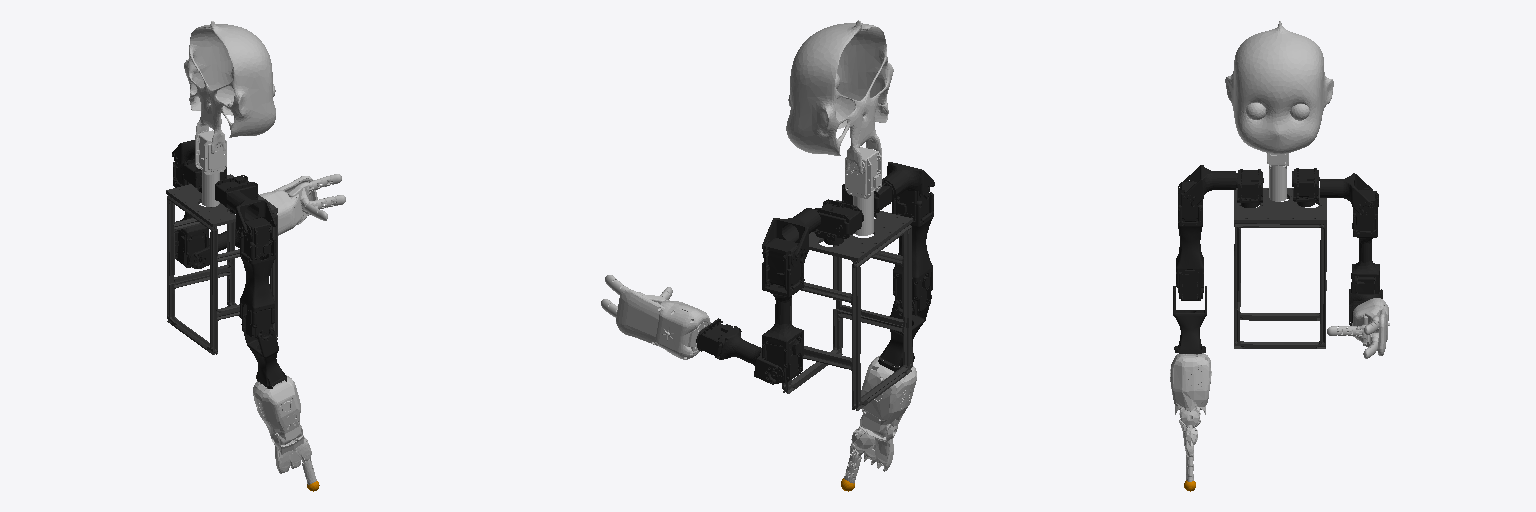
--- Facts derived from the render (not from the file) ---
3 views of the same robot in one strip: view 1: azimuth 30°, elevation 25°; view 2: azimuth 150°, elevation 25°; view 3: azimuth 270°, elevation 25° (orthographic).
Robot: nico_upper_rh6d — 27 links, 26 joints (7 revolute, 19 fixed); root link world; default pose: all joints at 0 but 1 set to mid-range because 0 is outside their limits (r_elbow_y_rjoint = 2.01).
Visible links, largest first — view 1: head, torso, right_upper_arm, right_wrist, neck, left_upper_arm:11, right_lower_arm, left_wrist:11, right_collarbone, r_palm, right_shoulder; view 2: head, torso, left_upper_arm:11, left_wrist:11, right_upper_arm, right_wrist, left_lower_arm:11, neck, left_shoulder, left_collarbone:11, r_palm, right_collarbone (+2 smaller); view 3: head, torso, right_upper_arm, right_wrist, left_upper_arm:11, right_lower_arm, right_collarbone, left_collarbone:11, left_wrist:11, right_shoulder, left_shoulder, neck (+1 smaller).
Link boxes in pixels (x1,y1,x2,y2): head: (184, 21, 275, 153); torso: (166, 174, 277, 354); right_upper_arm: (240, 217, 275, 339); right_wrist: (253, 375, 301, 444); neck: (195, 130, 226, 206); left_upper_arm:11: (173, 157, 208, 268); right_lower_arm: (241, 324, 286, 388); left_wrist:11: (260, 176, 317, 235); right_collarbone: (226, 191, 276, 238); r_palm: (270, 426, 311, 473); right_shoulder: (215, 175, 257, 213); head: (786, 20, 893, 173); torso: (782, 200, 912, 410); left_upper_arm:11: (762, 238, 804, 383); left_wrist:11: (616, 290, 710, 359); right_upper_arm: (892, 190, 933, 315); right_wrist: (861, 355, 916, 437); left_lower_arm:11: (696, 318, 777, 384); neck: (845, 147, 881, 235); left_shoulder: (813, 199, 863, 244); left_collarbone:11: (762, 208, 820, 263); r_palm: (850, 417, 897, 471); right_collarbone: (882, 162, 934, 199); head: (1225, 21, 1333, 153); torso: (1234, 188, 1326, 348); right_upper_arm: (1176, 181, 1203, 300); right_wrist: (1170, 353, 1211, 422); left_upper_arm:11: (1351, 188, 1380, 293); right_lower_arm: (1173, 286, 1206, 353); right_collarbone: (1183, 165, 1235, 206); left_collarbone:11: (1320, 173, 1372, 214); left_wrist:11: (1352, 298, 1389, 355); right_shoulder: (1236, 169, 1263, 207); left_shoulder: (1292, 168, 1319, 206); neck: (1267, 153, 1288, 201).
Bounding box of the posed robot: 0.3653 × 0.3521 × 0.7848 m (x, y, z).
Meshes: 17 distinct files referenced, 25 mesh visuals loaded (17 binary STL).

The robot description file, URDF, robot "nico_upper_rh6d":
<?xml version="1.0" ?>

<robot name="nico_upper_rh6d">
  <joint name="endeffector_joint" type="fixed">
    <origin rpy="-0.00000 0.00000 -0.00000" xyz="0.00000 -0.00000 -0.05000"/>
    <parent link="gripper"/>
    <child link="endeffector"/>
  </joint>
  <joint name="gripper_rjoint" type="revolute">
    <limit lower="-2.57000" upper="0" effort="30" velocity="1"/>
    <origin rpy="-0.00000 0.00000 -0.00000" xyz="-0.00000 -0.02000 -0.06000"/>
    <parent link="r_palm"/>
    <child link="gripper"/>
    <axis xyz="0.00000 1.00000 0.00000"/>
  </joint>
  <joint name="head_y_rjoint" type="fixed">
    <origin rpy="0.00000 0.00000 0.00000" xyz="0.00000 0.00000 0.10500"/>
    <parent link="neck"/>
    <child link="head"/>
  </joint>
  <joint name="head_z_rjoint" type="fixed">
    <origin rpy="0.00000 0.00000 0.00000" xyz="-0.02000 0.00000 0.23000"/>
    <parent link="torso"/>
    <child link="neck"/>
  </joint>
  <joint name="l_arm_x" type="fixed">
    <origin rpy="0.00068 -0.05128 -0.00004" xyz="0.02450 0.07366 -0.02285"/>
    <parent link="left_collarbone:11"/>
    <child link="left_upper_arm:11"/>
  </joint>
  <joint name="l_elbow_y" type="fixed">
    <origin rpy="3.14159 -1.44562 -3.14159" xyz="-0.03458 0.02307 -0.16986"/>
    <parent link="left_upper_arm:11"/>
    <child link="left_lower_arm:11"/>
  </joint>
  <joint name="l_indexfinger_1st_x" type="fixed">
    <origin rpy="-0.09524 -0.00000 -0.00000" xyz="-0.00951 -0.00000 -0.01600"/>
    <parent link="finger_segment:25"/>
    <child link="finger_segment:15"/>
  </joint>
  <joint name="l_indexfinger_2nd_x" type="fixed">
    <origin rpy="-0.10961 -0.00000 -0.00000" xyz="0.00000 -0.00000 -0.01600"/>
    <parent link="finger_segment:15"/>
    <child link="fingertip:15"/>
  </joint>
  <joint name="l_indexfingers_x" type="fixed">
    <origin rpy="2.49295 0.06290 -0.00000" xyz="-0.00144 0.00623 0.04000"/>
    <parent link="left_palm:11"/>
    <child link="finger_segment:25"/>
  </joint>
  <joint name="l_ringfinger_1st_x" type="fixed">
    <origin rpy="-0.09525 0.00000 -0.00000" xyz="-0.00951 -0.00000 -0.01600"/>
    <parent link="finger_segment:26"/>
    <child link="finger_segment:16"/>
  </joint>
  <joint name="l_ringfinger_2nd_x" type="fixed">
    <origin rpy="-0.10961 -0.00000 0.00000" xyz="0.00000 -0.00000 -0.01600"/>
    <parent link="finger_segment:16"/>
    <child link="fingertip:16"/>
  </joint>
  <joint name="l_ringfingers_x" type="fixed">
    <origin rpy="2.49951 -0.06290 -0.00000" xyz="-0.03618 0.00623 0.04057"/>
    <parent link="left_palm:11"/>
    <child link="finger_segment:26"/>
  </joint>
  <joint name="l_shoulder_y" type="fixed">
    <origin rpy="0.00000 -0.00445 -0.01954" xyz="0.02245 0.02257 0.03700"/>
    <parent link="left_shoulder"/>
    <child link="left_collarbone:11"/>
  </joint>
  <joint name="l_shoulder_z_rjoint" type="fixed">
    <origin rpy="0.00000 0.00000 0.00000" xyz="0.00000 0.04500 0.23000"/>
    <parent link="torso"/>
    <child link="left_shoulder"/>
  </joint>
  <joint name="l_thumb_1st_x" type="fixed">
    <origin rpy="-0.09525 0.00000 0.00000" xyz="-0.00951 0.00000 -0.01600"/>
    <parent link="finger_segment:24"/>
    <child link="finger_segment:14"/>
  </joint>
  <joint name="l_thumb_2nd_x" type="fixed">
    <origin rpy="-0.10961 -0.00000 0.00000" xyz="0.00000 -0.00000 -0.01600"/>
    <parent link="finger_segment:14"/>
    <child link="fingertip:14"/>
  </joint>
  <joint name="l_thumb_x" type="fixed">
    <origin rpy="-1.13053 -0.00000 3.14159" xyz="-0.02800 0.01990 0.00842"/>
    <parent link="left_palm:11"/>
    <child link="finger_segment:24"/>
  </joint>
  <joint name="l_wrist_x" type="fixed">
    <origin rpy="0.46094 0.00000 -0.00000" xyz="0.02342 0.00605 0.07084"/>
    <parent link="left_wrist:11"/>
    <child link="left_palm:11"/>
  </joint>
  <joint name="l_wrist_z" type="fixed">
    <origin rpy="-3.14159 0.00000 0.02870" xyz="0.00000 -0.01020 -0.12555"/>
    <parent link="left_lower_arm:11"/>
    <child link="left_wrist:11"/>
  </joint>
  <joint name="r_elbow_y_rjoint" type="revolute">
    <limit lower="0.87260" upper="3.14160" effort="30" velocity="1"/>
    <origin rpy="3.14159 0.00159 3.14159" xyz="0.00000 0.00000 -0.17000"/>
    <parent link="right_upper_arm"/>
    <child link="right_lower_arm"/>
    <axis xyz="0.00000 1.00000 0.00000"/>
  </joint>
  <joint name="r_shoulder_y_rjoint" type="revolute">
    <limit lower="-0.52360" upper="3.14160" effort="30" velocity="1"/>
    <origin rpy="0.00000 0.00000 0.00000" xyz="-0.02100 -0.02300 0.03300"/>
    <parent link="right_shoulder"/>
    <child link="right_collarbone"/>
    <axis xyz="0.00000 -1.00000 0.00000"/>
  </joint>
  <joint name="r_shoulder_z_rjoint" type="revolute">
    <limit lower="-0.43630" upper="1.39630" effort="30" velocity="1"/>
    <origin rpy="0.00000 0.00000 0.00000" xyz="0.00500 -0.04500 0.23000"/>
    <parent link="torso"/>
    <child link="right_shoulder"/>
    <axis xyz="0.00000 0.00000 1.00000"/>
  </joint>
  <joint name="r_upperarm_x_rjoint" type="revolute">
    <limit lower="0" upper="1.22170" effort="30" velocity="1"/>
    <origin rpy="0.00000 0.00000 0.00000" xyz="0.00000 -0.07300 -0.02300"/>
    <parent link="right_collarbone"/>
    <child link="right_upper_arm"/>
    <axis xyz="-1.00000 0.00000 0.00000"/>
  </joint>
  <joint name="r_wrist_x_rjoint" type="revolute">
    <limit lower="-0.78000" upper="0.78000" effort="30" velocity="1"/>
    <origin rpy="0.00000 -0.00000 0.00000" xyz="-0.00000 0.00000 -0.10000"/>
    <parent link="right_wrist"/>
    <child link="r_palm"/>
    <axis xyz="0.00000 1.00000 0.00000"/>
  </joint>
  <joint name="r_wrist_z_rjoint" type="revolute">
    <limit lower="-1.57100" upper="1.57100" effort="30" velocity="1"/>
    <origin rpy="0.87260 0.00061 1.57028" xyz="-0.08043 0.00000 -0.06750"/>
    <parent link="right_lower_arm"/>
    <child link="right_wrist"/>
    <axis xyz="0.00000 0.00000 1.00000"/>
  </joint>
  <joint name="world_to_base_link" type="fixed">
    <origin rpy="0.00000 0.00000 0.00000" xyz="0.00000 0.00000 0.00000"/>
    <parent link="world"/>
    <child link="torso"/>
  </joint>
  <link name="endeffector">
    <visual name="endeffector_visual">
      <origin rpy="-0.00000 0.00000 -0.00000" xyz="-0.00000 0.00000 0.00000"/>
      <material name="phobos_collision"/>
      <geometry>
        <sphere radius="0.01000"/>
      </geometry>
    </visual>
  </link>
  <link name="finger_segment:14">
    <collision name="finger_segment:14_collision">
      <origin rpy="0.00000 0.00000 -0.00000" xyz="-0.00618 -0.01551 -0.00742"/>
      <geometry>
        <mesh filename="./finger_segment_ipt_50d2a7f4.stl" scale="0.00100 0.00100 0.00100"/>
      </geometry>
    </collision>
    <inertial>
      <inertia ixx="0.00000" ixy="0.00000" ixz="0.00000" iyy="0.00000" iyz="0.00000" izz="0.00000"/>
      <origin rpy="0.00000 0.00000 0.00000" xyz="0.00541 0.00056 -0.00575"/>
      <mass value="0.00001"/>
    </inertial>
    <visual name="finger_segment:14_visual">
      <origin rpy="0.00000 0.00000 -0.00000" xyz="-0.00618 -0.01551 -0.00742"/>
      <material name="finger_segment:16_color"/>
      <geometry>
        <mesh filename="./finger_segment_ipt_50d2a7f4.stl" scale="0.00100 0.00100 0.00100"/>
      </geometry>
    </visual>
  </link>
  <link name="finger_segment:15">
    <collision name="finger_segment:15_collision">
      <origin rpy="-0.00000 -0.00000 0.00000" xyz="-0.00618 -0.01551 -0.00742"/>
      <geometry>
        <mesh filename="./finger_segment_ipt_50d2a7f4.stl" scale="0.00100 0.00100 0.00100"/>
      </geometry>
    </collision>
    <inertial>
      <inertia ixx="0.00000" ixy="0.00000" ixz="0.00000" iyy="0.00000" iyz="0.00000" izz="0.00000"/>
      <origin rpy="0.00000 0.00000 0.00000" xyz="0.00541 0.00056 -0.00575"/>
      <mass value="0.00001"/>
    </inertial>
    <visual name="finger_segment:15_visual">
      <origin rpy="-0.00000 -0.00000 0.00000" xyz="-0.00618 -0.01551 -0.00742"/>
      <material name="finger_segment:16_color"/>
      <geometry>
        <mesh filename="./finger_segment_ipt_50d2a7f4.stl" scale="0.00100 0.00100 0.00100"/>
      </geometry>
    </visual>
  </link>
  <link name="finger_segment:16">
    <collision name="finger_segment:16_collision">
      <origin rpy="0.00000 0.00000 0.00000" xyz="-0.00618 -0.01551 -0.00742"/>
      <geometry>
        <mesh filename="./finger_segment_ipt_50d2a7f4.stl" scale="0.00100 0.00100 0.00100"/>
      </geometry>
    </collision>
    <inertial>
      <inertia ixx="0.00000" ixy="0.00000" ixz="0.00000" iyy="0.00000" iyz="0.00000" izz="0.00000"/>
      <origin rpy="0.00000 0.00000 0.00000" xyz="0.00541 0.00056 -0.00575"/>
      <mass value="0.00001"/>
    </inertial>
    <visual name="finger_segment:16_visual">
      <origin rpy="0.00000 0.00000 0.00000" xyz="-0.00618 -0.01551 -0.00742"/>
      <material name="finger_segment:16_color"/>
      <geometry>
        <mesh filename="./finger_segment_ipt_50d2a7f4.stl" scale="0.00100 0.00100 0.00100"/>
      </geometry>
    </visual>
  </link>
  <link name="finger_segment:24">
    <collision name="finger_segment:24_collision">
      <origin rpy="0.00000 -0.00000 -0.00000" xyz="-0.01569 -0.01551 -0.00742"/>
      <geometry>
        <mesh filename="./finger_segment_ipt_50d2a7f4.stl" scale="0.00100 0.00100 0.00100"/>
      </geometry>
    </collision>
    <inertial>
      <inertia ixx="0.00000" ixy="0.00000" ixz="0.00000" iyy="0.00000" iyz="0.00000" izz="0.00000"/>
      <origin rpy="0.00000 0.00000 0.00000" xyz="-0.00410 0.00056 -0.00575"/>
      <mass value="0.00001"/>
    </inertial>
    <visual name="finger_segment:24_visual">
      <origin rpy="0.00000 -0.00000 -0.00000" xyz="-0.01569 -0.01551 -0.00742"/>
      <material name="finger_segment:16_color"/>
      <geometry>
        <mesh filename="./finger_segment_ipt_50d2a7f4.stl" scale="0.00100 0.00100 0.00100"/>
      </geometry>
    </visual>
  </link>
  <link name="finger_segment:25">
    <collision name="finger_segment:25_collision">
      <origin rpy="0.00000 0.00000 -0.00000" xyz="-0.01569 -0.01551 -0.00742"/>
      <geometry>
        <mesh filename="./finger_segment_ipt_50d2a7f4.stl" scale="0.00100 0.00100 0.00100"/>
      </geometry>
    </collision>
    <inertial>
      <inertia ixx="0.00000" ixy="0.00000" ixz="0.00000" iyy="0.00000" iyz="0.00000" izz="0.00000"/>
      <origin rpy="0.00000 0.00000 0.00000" xyz="-0.00410 0.00056 -0.00575"/>
      <mass value="0.00001"/>
    </inertial>
    <visual name="finger_segment:25_visual">
      <origin rpy="0.00000 0.00000 -0.00000" xyz="-0.01569 -0.01551 -0.00742"/>
      <material name="finger_segment:16_color"/>
      <geometry>
        <mesh filename="./finger_segment_ipt_50d2a7f4.stl" scale="0.00100 0.00100 0.00100"/>
      </geometry>
    </visual>
  </link>
  <link name="finger_segment:26">
    <collision name="finger_segment:26_collision">
      <origin rpy="0.00000 0.00000 -0.00000" xyz="-0.01569 -0.01551 -0.00742"/>
      <geometry>
        <mesh filename="./finger_segment_ipt_50d2a7f4.stl" scale="0.00100 0.00100 0.00100"/>
      </geometry>
    </collision>
    <inertial>
      <inertia ixx="0.00000" ixy="0.00000" ixz="0.00000" iyy="0.00000" iyz="0.00000" izz="0.00000"/>
      <origin rpy="0.00000 0.00000 0.00000" xyz="-0.00410 0.00056 -0.00575"/>
      <mass value="0.00001"/>
    </inertial>
    <visual name="finger_segment:26_visual">
      <origin rpy="0.00000 0.00000 -0.00000" xyz="-0.01569 -0.01551 -0.00742"/>
      <material name="finger_segment:16_color"/>
      <geometry>
        <mesh filename="./finger_segment_ipt_50d2a7f4.stl" scale="0.00100 0.00100 0.00100"/>
      </geometry>
    </visual>
  </link>
  <link name="fingertip:14">
    <collision name="fingertip:14_collision">
      <origin rpy="-0.00000 -0.00000 0.00000" xyz="0.00551 0.00037 -0.01017"/>
      <geometry>
        <mesh filename="./fingertip_ipt_8417b8a9.stl" scale="0.00100 0.00100 0.00100"/>
      </geometry>
    </collision>
    <inertial>
      <inertia ixx="0.00000" ixy="0.00000" ixz="0.00000" iyy="0.00000" iyz="0.00000" izz="0.00000"/>
      <origin rpy="0.00000 0.00000 0.00000" xyz="0.00501 0.00041 -0.01022"/>
      <mass value="0.00001"/>
    </inertial>
    <visual name="fingertip:14_visual">
      <origin rpy="-0.00000 -0.00000 0.00000" xyz="0.00551 0.00037 -0.01017"/>
      <material name="fingertip:16_color"/>
      <geometry>
        <mesh filename="./fingertip_ipt_8417b8a9.stl" scale="0.00100 0.00100 0.00100"/>
      </geometry>
    </visual>
  </link>
  <link name="fingertip:15">
    <collision name="fingertip:15_collision">
      <origin rpy="-0.00000 0.00000 -0.00000" xyz="0.00551 0.00037 -0.01017"/>
      <geometry>
        <mesh filename="./fingertip_ipt_8417b8a9.stl" scale="0.00100 0.00100 0.00100"/>
      </geometry>
    </collision>
    <inertial>
      <inertia ixx="0.00000" ixy="0.00000" ixz="0.00000" iyy="0.00000" iyz="0.00000" izz="0.00000"/>
      <origin rpy="0.00000 0.00000 0.00000" xyz="0.00501 0.00041 -0.01022"/>
      <mass value="0.00001"/>
    </inertial>
    <visual name="fingertip:15_visual">
      <origin rpy="-0.00000 0.00000 -0.00000" xyz="0.00551 0.00037 -0.01017"/>
      <material name="fingertip:16_color"/>
      <geometry>
        <mesh filename="./fingertip_ipt_8417b8a9.stl" scale="0.00100 0.00100 0.00100"/>
      </geometry>
    </visual>
  </link>
  <link name="fingertip:16">
    <collision name="fingertip:16_collision">
      <origin rpy="0.00000 0.00000 0.00000" xyz="0.00551 0.00037 -0.01017"/>
      <geometry>
        <mesh filename="./fingertip_ipt_8417b8a9.stl" scale="0.00100 0.00100 0.00100"/>
      </geometry>
    </collision>
    <inertial>
      <inertia ixx="0.00000" ixy="0.00000" ixz="0.00000" iyy="0.00000" iyz="0.00000" izz="0.00000"/>
      <origin rpy="0.00000 0.00000 0.00000" xyz="0.00501 0.00041 -0.01022"/>
      <mass value="0.00001"/>
    </inertial>
    <visual name="fingertip:16_visual">
      <origin rpy="0.00000 0.00000 0.00000" xyz="0.00551 0.00037 -0.01017"/>
      <material name="fingertip:16_color"/>
      <geometry>
        <mesh filename="./fingertip_ipt_8417b8a9.stl" scale="0.00100 0.00100 0.00100"/>
      </geometry>
    </visual>
  </link>
  <link name="gripper">
    <collision name="gripper_collision">
      <origin rpy="0.00000 -0.00000 0.00000" xyz="0.00000 0.00000 0.00000"/>
      <geometry>
        <mesh filename="./finger.stl" scale="1.00000 1.00000 1.00000"/>
      </geometry>
    </collision>
    <inertial>
      <inertia ixx="0.00000" ixy="0.00000" ixz="0.00000" iyy="0.00000" iyz="-0.00000" izz="0.00000"/>
      <origin rpy="0.00000 0.00000 0.00000" xyz="0.00541 0.00056 -0.00575"/>
      <mass value="0.00001"/>
    </inertial>
    <visual name="gripper_visual">
      <origin rpy="0.00000 -0.00000 0.00000" xyz="0.00000 0.00000 0.00000"/>
      <material name="finger_color"/>
      <geometry>
        <mesh filename="./finger.stl" scale="1.00000 1.00000 1.00000"/>
      </geometry>
    </visual>
  </link>
  <link name="head">
    <collision name="head_collision">
      <origin rpy="0.00000 0.00000 0.00000" xyz="0.00000 0.00000 0.00000"/>
      <geometry>
        <mesh filename="./head.stl" scale="1.00000 1.00000 1.00000"/>
      </geometry>
    </collision>
    <inertial>
      <inertia ixx="0.00142" ixy="0.00000" ixz="0.00008" iyy="0.00159" iyz="-0.00000" izz="0.00148"/>
      <origin rpy="0.00000 0.00000 0.00000" xyz="0.01525 -0.02377 0.09423"/>
      <mass value="0.29414"/>
    </inertial>
    <visual name="head_visual">
      <origin rpy="0.00000 0.00000 0.00000" xyz="0.00000 0.00000 0.00000"/>
      <material name="head_color"/>
      <geometry>
        <mesh filename="./head.stl" scale="1.00000 1.00000 1.00000"/>
      </geometry>
    </visual>
  </link>
  <link name="left_collarbone:11">
    <collision name="left_collarbone:11_collision">
      <origin rpy="-0.00000 -0.00000 0.00000" xyz="-0.00032 -0.00028 0.00030"/>
      <geometry>
        <mesh filename="./left_upper_arm_simple.stl" scale="0.00100 0.00100 0.00100"/>
      </geometry>
    </collision>
    <inertial>
      <inertia ixx="0.00001" ixy="0.00000" ixz="0.00000" iyy="0.00001" iyz="0.00000" izz="0.00002"/>
      <origin rpy="0.00000 0.00000 0.00000" xyz="0.00000 0.04134 -0.00236"/>
      <mass value="0.02481"/>
    </inertial>
    <visual name="left_collarbone:11_visual">
      <origin rpy="-0.00000 -0.00000 0.00000" xyz="-0.00032 -0.00028 0.00030"/>
      <material name="left_collarbone:11_color"/>
      <geometry>
        <mesh filename="./left_upper_arm_simple.stl" scale="0.00100 0.00100 0.00100"/>
      </geometry>
    </visual>
  </link>
  <link name="left_lower_arm:11">
    <inertial>
      <inertia ixx="0.00010" ixy="-0.00000" ixz="-0.00000" iyy="0.00010" iyz="0.00000" izz="0.00002"/>
      <origin rpy="0.00000 0.00000 0.00000" xyz="0.00000 -0.02248 -0.08105"/>
      <mass value="0.07679"/>
    </inertial>
    <visual name="left_lower_arm:11_visual">
      <origin rpy="0.00000 -0.00000 -0.00000" xyz="0.00002 -0.01077 -0.12546"/>
      <material name="left_lower_arm:11_color"/>
      <geometry>
        <mesh filename="./left_lowerarm_simple.stl" scale="0.00100 0.00100 0.00100"/>
      </geometry>
    </visual>
  </link>
  <link name="left_palm:11">
    <collision name="left_palm:11_collision">
      <origin rpy="0.00000 0.00000 0.00000" xyz="-0.02323 0.00191 0.01723"/>
      <geometry>
        <mesh filename="./left_palm_simple.stl" scale="0.00100 0.00100 0.00100"/>
      </geometry>
    </collision>
    <inertial>
      <inertia ixx="0.00000" ixy="0.00000" ixz="-0.00000" iyy="0.00000" iyz="0.00000" izz="0.00000"/>
      <origin rpy="0.00000 0.00000 0.00000" xyz="-0.02720 0.00012 0.01719"/>
      <mass value="0.00522"/>
    </inertial>
    <visual name="left_palm:11_visual">
      <origin rpy="0.00000 0.00000 0.00000" xyz="-0.02323 0.00191 0.01723"/>
      <material name="left_palm:11_color"/>
      <geometry>
        <mesh filename="./left_palm_simple.stl" scale="0.00100 0.00100 0.00100"/>
      </geometry>
    </visual>
  </link>
  <link name="left_shoulder">
    <collision name="left_shoulder_collision">
      <origin rpy="0.00000 0.00000 0.00000" xyz="0.00000 0.00000 0.00000"/>
      <geometry>
        <mesh filename="./right_shoulder.stl" scale="1.00000 1.00000 1.00000"/>
      </geometry>
    </collision>
    <inertial>
      <inertia ixx="0.00003" ixy="-0.00000" ixz="-0.00000" iyy="0.00003" iyz="0.00000" izz="0.00003"/>
      <origin rpy="0.00000 0.00000 0.00000" xyz="0.00564 0.00088 0.03315"/>
      <mass value="0.08404"/>
    </inertial>
    <visual name="left_shoulder_visual">
      <origin rpy="0.00000 0.00000 0.00000" xyz="0.00000 0.00000 0.00000"/>
      <material name="right_shoulder_color"/>
      <geometry>
        <mesh filename="./right_shoulder.stl" scale="1.00000 1.00000 1.00000"/>
      </geometry>
    </visual>
  </link>
  <link name="left_upper_arm:11">
    <inertial>
      <inertia ixx="0.00085" ixy="0.00000" ixz="-0.00005" iyy="0.00085" iyz="0.00000" izz="0.00005"/>
      <origin rpy="0.00000 0.00000 0.00000" xyz="-0.02864 -0.00070 -0.08422"/>
      <mass value="0.19239"/>
    </inertial>
    <visual name="left_upper_arm:11_visual">
      <origin rpy="0.00000 -0.00000 0.00000" xyz="-0.04484 -0.00935 -0.16158"/>
      <material name="left_upper_arm:11_color"/>
      <geometry>
        <mesh filename="./left_lower_arm_simple.stl" scale="0.00100 0.00100 0.00100"/>
      </geometry>
    </visual>
  </link>
  <link name="left_wrist:11">
    <collision name="left_wrist:11_collision">
      <origin rpy="0.00000 0.00000 0.00000" xyz="-0.00032 0.00662 0.07068"/>
      <geometry>
        <mesh filename="./left_wrist_simple.stl" scale="0.00100 0.00100 0.00100"/>
      </geometry>
    </collision>
    <inertial>
      <inertia ixx="0.00004" ixy="0.00000" ixz="0.00000" iyy="0.00004" iyz="0.00001" izz="0.00001"/>
      <origin rpy="0.00000 0.00000 0.00000" xyz="0.00007 -0.01105 0.06777"/>
      <mass value="0.02836"/>
    </inertial>
    <visual name="left_wrist:11_visual">
      <origin rpy="0.00000 0.00000 0.00000" xyz="-0.00032 0.00662 0.07068"/>
      <material name="left_wrist:11_color"/>
      <geometry>
        <mesh filename="./left_wrist_simple.stl" scale="0.00100 0.00100 0.00100"/>
      </geometry>
    </visual>
  </link>
  <link name="neck">
    <collision name="neck_collision">
      <origin rpy="0.00000 0.00000 0.00000" xyz="0.00000 0.00000 0.00000"/>
      <geometry>
        <mesh filename="./neck.stl" scale="1.00000 1.00000 1.00000"/>
      </geometry>
    </collision>
    <inertial>
      <inertia ixx="0.00006" ixy="0.00000" ixz="0.00000" iyy="0.00006" iyz="-0.00000" izz="0.00002"/>
      <origin rpy="0.00000 0.00000 0.00000" xyz="0.00000 0.00027 0.05035"/>
      <mass value="0.09044"/>
    </inertial>
    <visual name="neck_visual">
      <origin rpy="0.00000 0.00000 0.00000" xyz="0.00000 0.00000 0.00000"/>
      <material name="neck_color"/>
      <geometry>
        <mesh filename="./neck.stl" scale="1.00000 1.00000 1.00000"/>
      </geometry>
    </visual>
  </link>
  <link name="r_palm">
    <collision name="r_palm_collision">
      <origin rpy="-0.00000 -0.00000 0.00000" xyz="0.00000 -0.00000 0.00000"/>
      <geometry>
        <mesh filename="./right_palm.stl" scale="1.00000 1.00000 1.00000"/>
      </geometry>
    </collision>
    <inertial>
      <inertia ixx="0.00001" ixy="0.00000" ixz="-0.00000" iyy="0.00002" iyz="0.00000" izz="0.00001"/>
      <origin rpy="0.00000 0.00000 0.00000" xyz="-0.02951 0.00225 -0.02397"/>
      <mass value="0.00533"/>
    </inertial>
    <visual name="r_palm_visual">
      <origin rpy="-0.00000 -0.00000 0.00000" xyz="0.00000 -0.00000 0.00000"/>
      <material name="gripper_color"/>
      <geometry>
        <mesh filename="./right_palm.stl" scale="1.00000 1.00000 1.00000"/>
      </geometry>
    </visual>
  </link>
  <link name="right_collarbone">
    <collision name="right_collarbone_collision">
      <origin rpy="0.00000 0.00000 0.00000" xyz="0.00000 0.00000 0.00000"/>
      <geometry>
        <mesh filename="./right_collar.stl" scale="1.00000 1.00000 1.00000"/>
      </geometry>
    </collision>
    <inertial>
      <inertia ixx="0.00001" ixy="0.00000" ixz="0.00000" iyy="0.00001" iyz="-0.00000" izz="0.00002"/>
      <origin rpy="0.00000 0.00000 0.00000" xyz="0.00000 -0.04135 -0.00236"/>
      <mass value="0.02481"/>
    </inertial>
    <visual name="right_collarbone_visual">
      <origin rpy="0.00000 0.00000 0.00000" xyz="0.00000 0.00000 0.00000"/>
      <material name="right_collarbone_color"/>
      <geometry>
        <mesh filename="./right_collar.stl" scale="1.00000 1.00000 1.00000"/>
      </geometry>
    </visual>
  </link>
  <link name="right_lower_arm">
    <collision name="right_lower_arm_collision">
      <origin rpy="0.00000 0.87260 0.00000" xyz="0.00000 0.00000 0.00000"/>
      <geometry>
        <mesh filename="./right_lower_arm.stl" scale="1.00000 1.00000 1.00000"/>
      </geometry>
    </collision>
    <inertial>
      <inertia ixx="0.00010" ixy="0.00000" ixz="0.00000" iyy="0.00010" iyz="-0.00000" izz="0.00002"/>
      <origin rpy="0.00000 0.00000 0.00000" xyz="0.00000 0.02249 -0.08106"/>
      <mass value="0.07679"/>
    </inertial>
    <visual name="right_lower_arm_visual">
      <origin rpy="0.00000 0.87260 0.00000" xyz="0.00000 0.00000 0.00000"/>
      <material name="right_lower_arm_color"/>
      <geometry>
        <mesh filename="./right_lower_arm.stl" scale="1.00000 1.00000 1.00000"/>
      </geometry>
    </visual>
  </link>
  <link name="right_shoulder">
    <collision name="right_shoulder_collision">
      <origin rpy="0.00000 0.00000 0.00000" xyz="0.00000 0.00000 0.00000"/>
      <geometry>
        <mesh filename="./right_shoulder.stl" scale="1.00000 1.00000 1.00000"/>
      </geometry>
    </collision>
    <inertial>
      <inertia ixx="0.00003" ixy="-0.00000" ixz="-0.00000" iyy="0.00003" iyz="0.00000" izz="0.00003"/>
      <origin rpy="0.00000 0.00000 0.00000" xyz="0.00564 0.00088 0.03315"/>
      <mass value="0.08404"/>
    </inertial>
    <visual name="right_shoulder_visual">
      <origin rpy="0.00000 0.00000 0.00000" xyz="0.00000 0.00000 0.00000"/>
      <material name="right_shoulder_color"/>
      <geometry>
        <mesh filename="./right_shoulder.stl" scale="1.00000 1.00000 1.00000"/>
      </geometry>
    </visual>
  </link>
  <link name="right_upper_arm">
    <collision name="right_upper_arm_collision">
      <origin rpy="0.00000 0.00000 0.00000" xyz="0.00000 0.00000 0.00000"/>
      <geometry>
        <mesh filename="./right_upper_arm.stl" scale="1.00000 1.00000 1.00000"/>
      </geometry>
    </collision>
    <inertial>
      <inertia ixx="0.00085" ixy="0.00000" ixz="-0.00000" iyy="0.00085" iyz="-0.00001" izz="0.00005"/>
      <origin rpy="0.00000 0.00000 0.00000" xyz="-0.02306 -0.00032 -0.08660"/>
      <mass value="0.18973"/>
    </inertial>
    <visual name="right_upper_arm_visual">
      <origin rpy="0.00000 0.00000 0.00000" xyz="0.00000 0.00000 0.00000"/>
      <material name="right_upper_arm_color"/>
      <geometry>
        <mesh filename="./right_upper_arm.stl" scale="1.00000 1.00000 1.00000"/>
      </geometry>
    </visual>
  </link>
  <link name="right_wrist">
    <collision name="right_wrist_collision">
      <origin rpy="-0.00000 0.00000 0.00000" xyz="0.00000 -0.00000 0.00000"/>
      <geometry>
        <mesh filename="./right_wrist.stl" scale="1.00000 1.00000 1.00000"/>
      </geometry>
    </collision>
    <inertial>
      <inertia ixx="0.00004" ixy="-0.00000" ixz="0.00000" iyy="0.00006" iyz="-0.00001" izz="0.00003"/>
      <origin rpy="0.00000 0.00000 0.00000" xyz="0.00003 -0.01106 -0.06750"/>
      <mass value="0.02840"/>
    </inertial>
    <visual name="right_wrist_visual">
      <origin rpy="-0.00000 0.00000 0.00000" xyz="0.00000 -0.00000 0.00000"/>
      <material name="right_wrist_color"/>
      <geometry>
        <mesh filename="./right_wrist.stl" scale="1.00000 1.00000 1.00000"/>
      </geometry>
    </visual>
  </link>
  <link name="torso">
    <visual name="torso_visual">
      <origin rpy="0.00000 0.00000 0.00000" xyz="0.00000 0.00000 0.00000"/>
      <material name="torso_color"/>
      <geometry>
        <mesh filename="./torso.stl" scale="1.00000 1.00000 1.00000"/>
      </geometry>
    </visual>
  </link>
  <link name="world"/>
  <material name="finger_color">
    <color rgba="0.74902 0.74902 0.74902 1.00000"/>
  </material>
  <material name="finger_segment:16_color">
    <color rgba="0.74902 0.74902 0.74902 1.00000"/>
  </material>
  <material name="fingertip:16_color">
    <color rgba="0.74902 0.74902 0.74902 1.00000"/>
  </material>
  <material name="gripper_color">
    <color rgba="0.74902 0.74902 0.74902 1.00000"/>
  </material>
  <material name="head_color">
    <color rgba="0.74902 0.74902 0.74902 1.00000"/>
  </material>
  <material name="left_collarbone:11_color">
    <color rgba="0.17647 0.17647 0.17647 1.00000"/>
  </material>
  <material name="left_lower_arm:11_color">
    <color rgba="0.17647 0.17647 0.17647 1.00000"/>
  </material>
  <material name="left_palm:11_color">
    <color rgba="0.74902 0.74902 0.74902 1.00000"/>
  </material>
  <material name="left_upper_arm:11_color">
    <color rgba="0.17647 0.17647 0.17647 1.00000"/>
  </material>
  <material name="left_wrist:11_color">
    <color rgba="0.74902 0.74902 0.74902 1.00000"/>
  </material>
  <material name="neck_color">
    <color rgba="0.74902 0.74902 0.74902 1.00000"/>
  </material>
  <material name="phobos_collision">
    <color rgba="0.80000 0.49804 0.00000 0.20000"/>
  </material>
  <material name="right_collarbone_color">
    <color rgba="0.17647 0.17647 0.17647 1.00000"/>
  </material>
  <material name="right_lower_arm_color">
    <color rgba="0.17647 0.17647 0.17647 1.00000"/>
  </material>
  <material name="right_shoulder_color">
    <color rgba="0.17647 0.17647 0.17647 1.00000"/>
  </material>
  <material name="right_upper_arm_color">
    <color rgba="0.17647 0.17647 0.17647 1.00000"/>
  </material>
  <material name="right_wrist_color">
    <color rgba="0.74902 0.74902 0.74902 1.00000"/>
  </material>
  <material name="torso_color">
    <color rgba="0.26667 0.26667 0.26667 1.00000"/>
  </material>
</robot>
